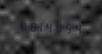eight: (26, 18, 34, 33), (17, 18, 25, 32)
five: (62, 20, 70, 35)
four: (44, 19, 52, 34), (71, 21, 79, 35)
nine: (53, 20, 61, 34)
one: (35, 19, 43, 33)
